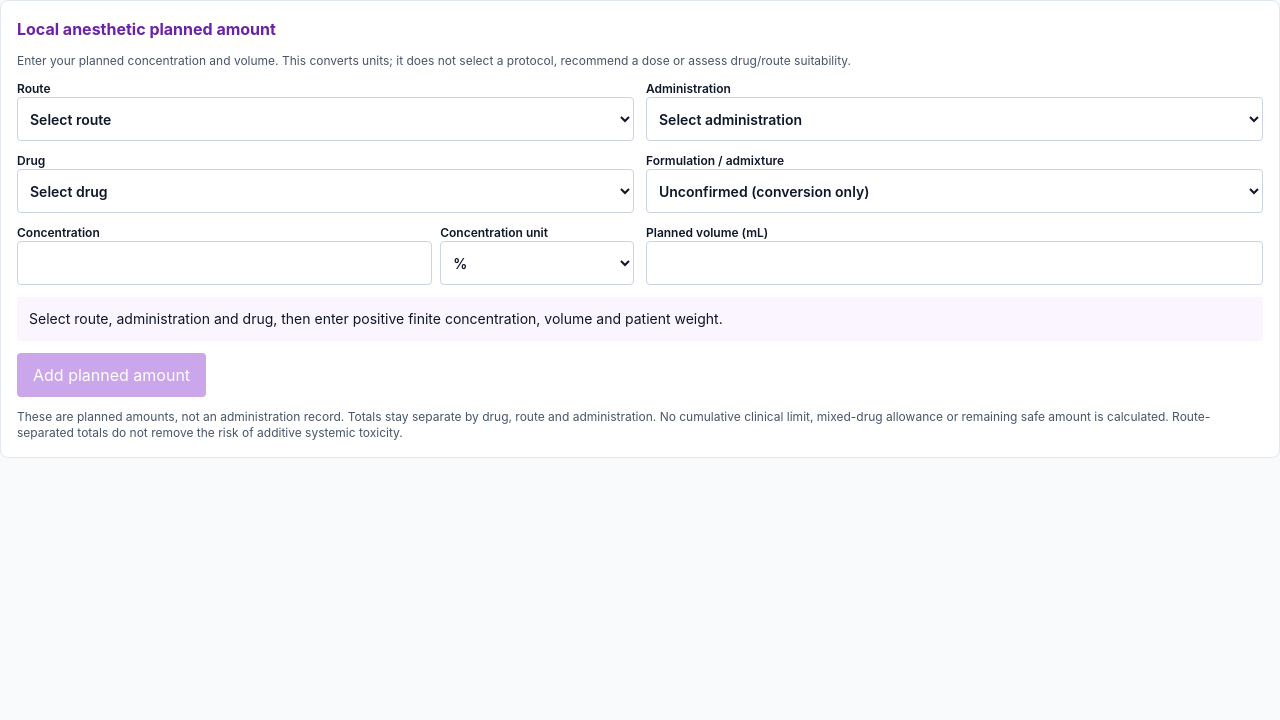
Test: Planned amount UI and patient guards › starts without protocol/drug/concentration defaults and converts then removes a plan
The image size is (1280, 720).
Expected: the button "Add planned amount" is disabled, [17, 353, 206, 397]
Expected: the dropdown labelled "Drug" shows "Select drug", [17, 169, 634, 213]
Step 1. Select "Peripheral nerve block" in the dropdown labelled "Route" → (326, 119), box [17, 97, 634, 141]
Step 2. Select "Single administration" in the dropdown labelled "Administration" → (954, 119), box [646, 97, 1263, 141]
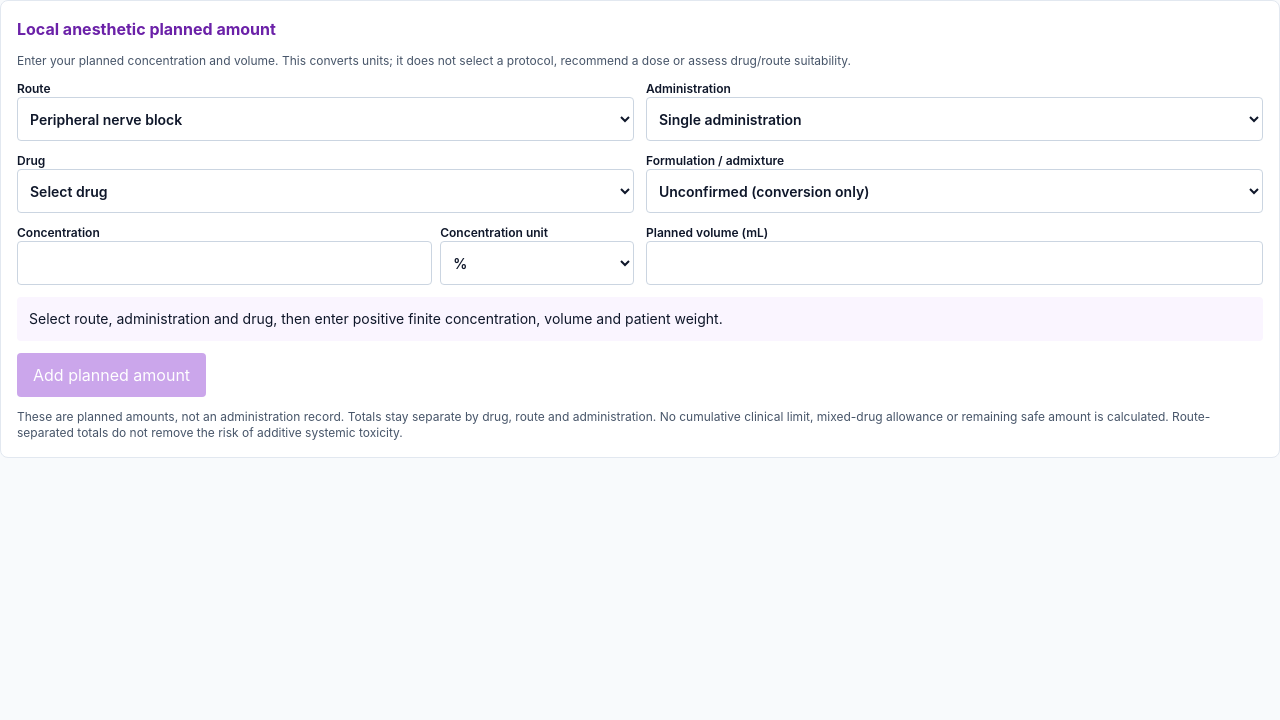
Step 3. Select "Bupivacaine" in the dropdown labelled "Drug" → (326, 191), box [17, 169, 634, 213]
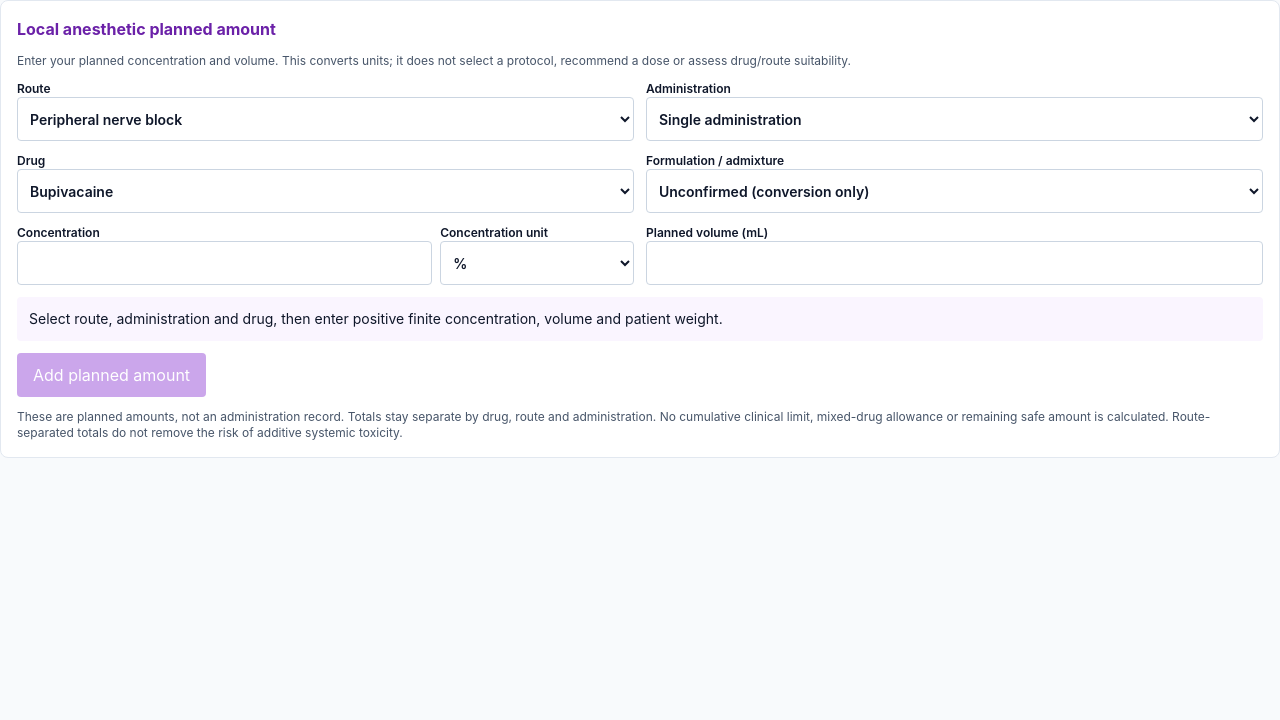
Step 4. Type "0.25" into the number field labelled "Concentration" → (225, 263), box [17, 241, 432, 285]
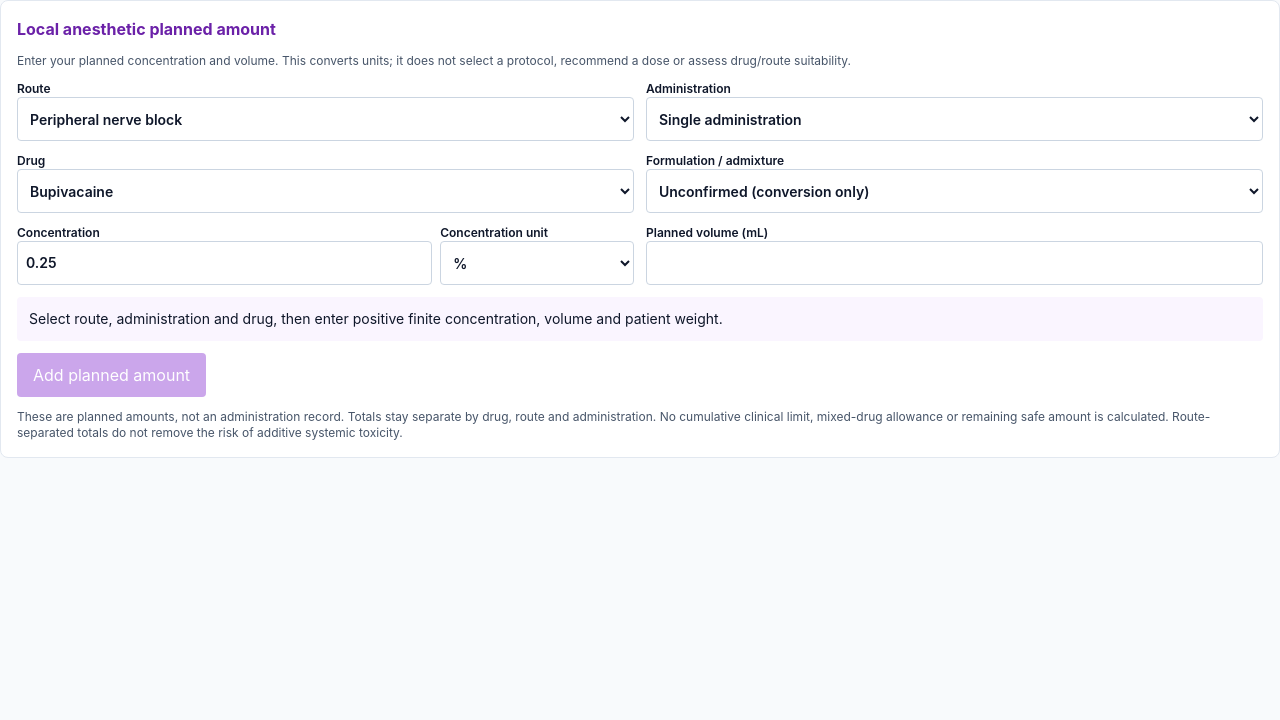
Step 5. Type "10" into the number field labelled "Planned volume (mL)" → (954, 263), box [646, 241, 1263, 285]
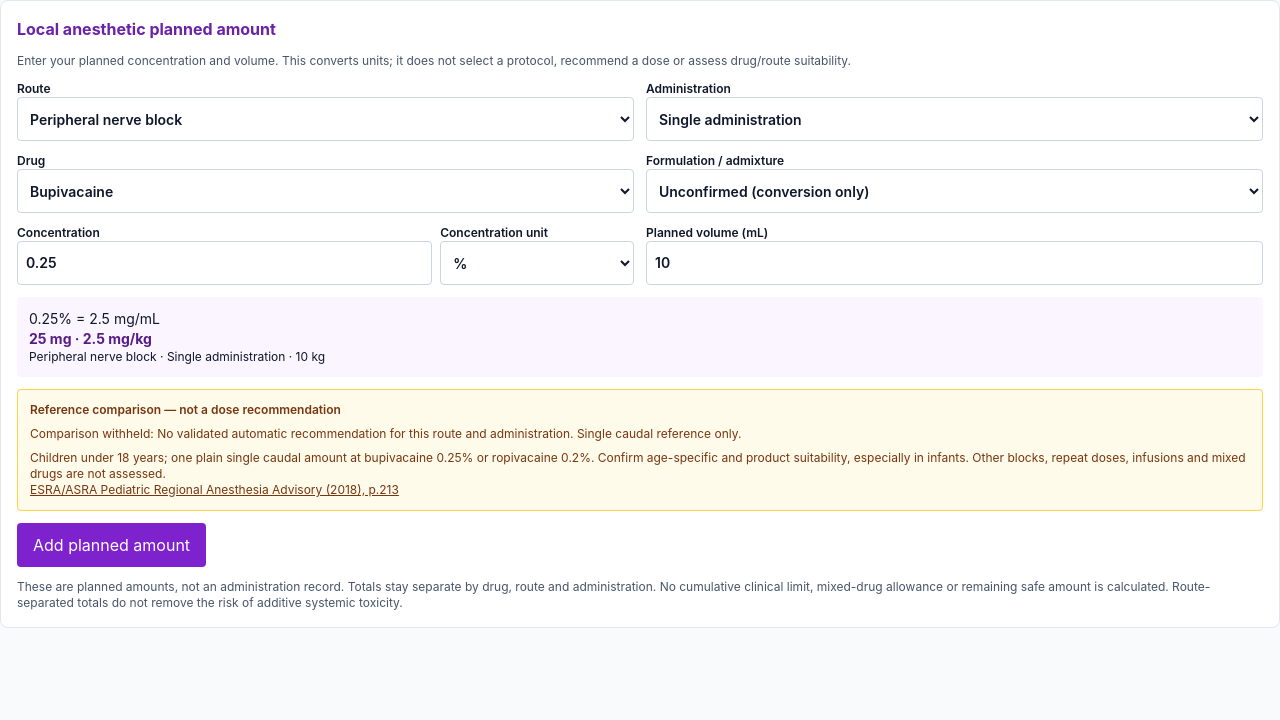
Result: the text "25 mg · 2.5 mg/kg" is shown at [29, 330, 152, 347]
Result: the text "0.25% = 2.5 mg/mL" is shown at [29, 310, 160, 327]
Step 6. Click the button "Add planned amount" → click(112, 545), box [17, 523, 206, 567]
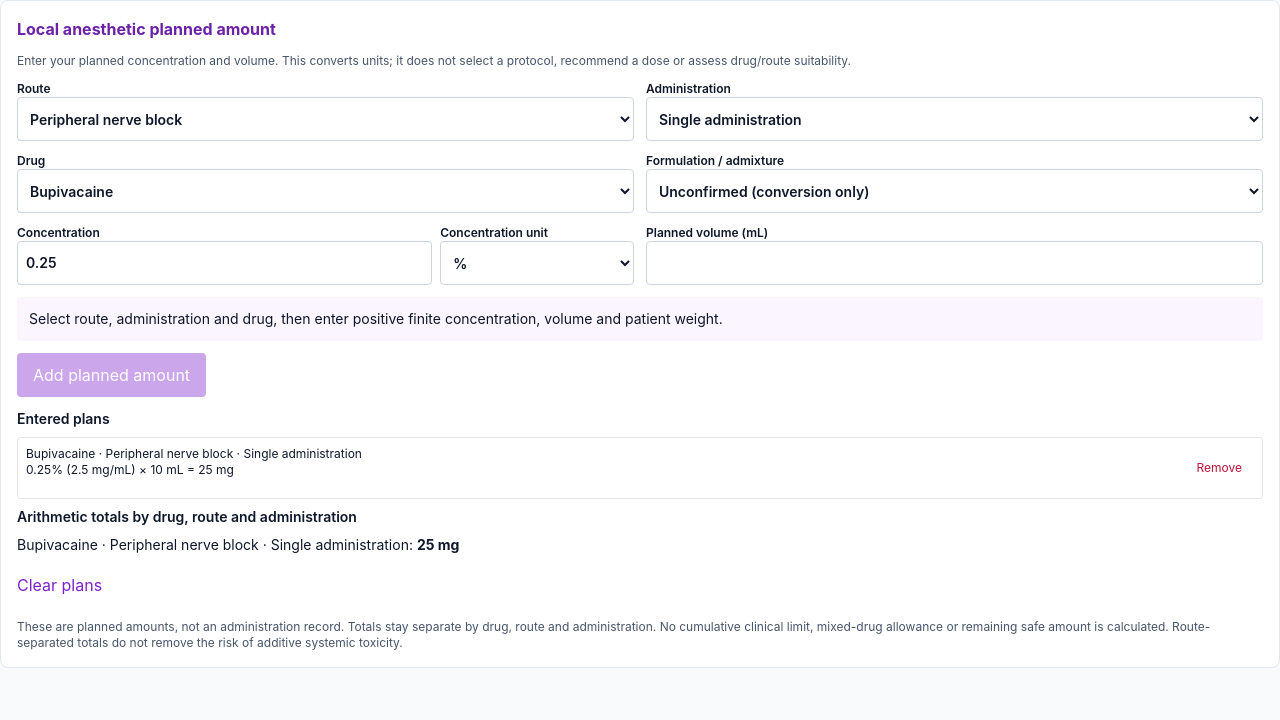
Result: the heading "Entered plans" is shown at [17, 410, 110, 427]
Step 7. Click the button with aria-label "Remove plan 1" → click(1219, 468), box [1184, 446, 1254, 490]
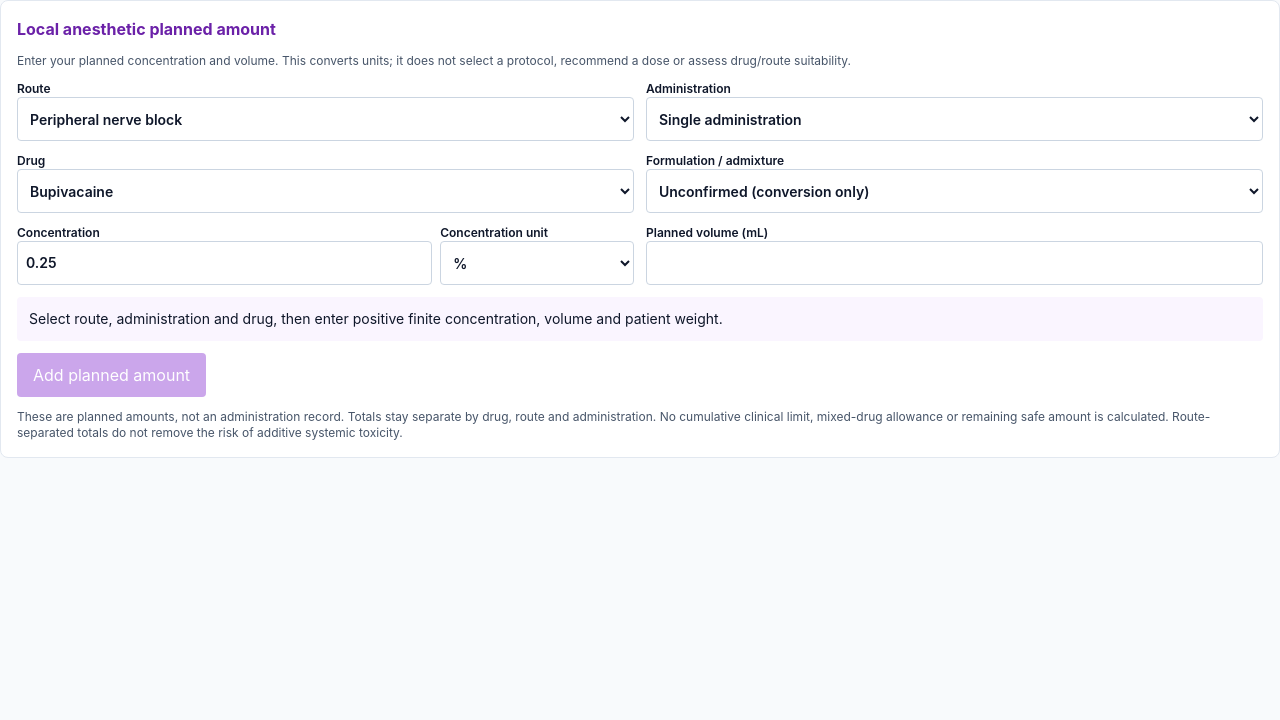
Result: the heading "Entered plans" is gone
